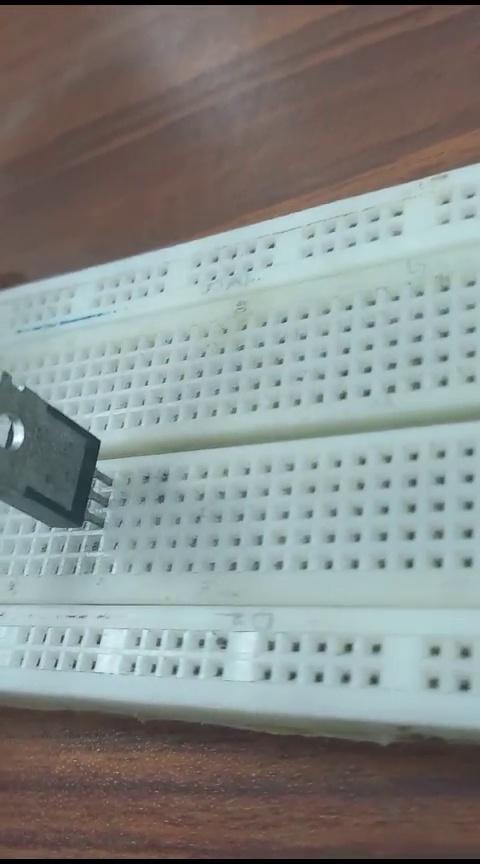voltage regulator: (2, 367, 112, 537)
